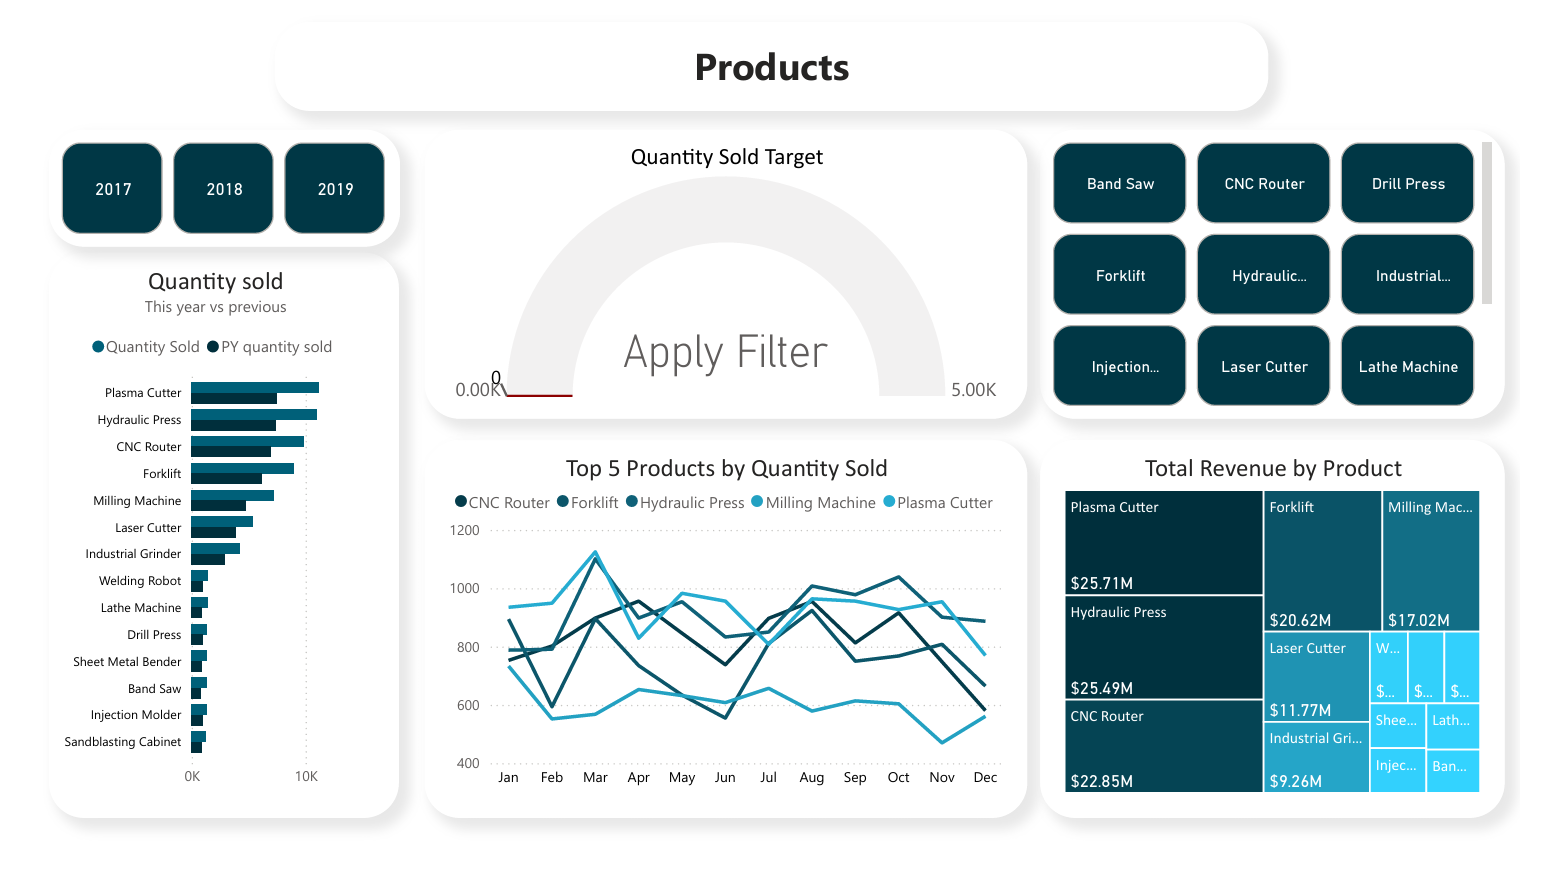

The page's visual inventory and layout, read from the dashboard file:
{"tool":"powerbi","page":{"name":"Products","canvas":[1280,720],"ordinal":1},"visuals":[{"type":"textbox","box":[216.2,11.2,848.7,76.2],"z":0},{"type":"clusteredBarChart","title":"Quantity sold","fields":{"Category":["Products_Data.Product Name"],"Y":["DAX measures.Quantity Sold","DAX measures.PY quantity sold"]},"box":[22.8,208,299.4,483.3],"z":1000},{"type":"lineChart","title":"Quantity Sold","fields":{"Category":["Date_Table.Month Short"],"Y":["DAX measures.Quantity Sold"],"Series":["Products_Data.Product Name"]},"box":[343.3,368.3,570,323.3],"z":2000},{"type":"advancedSlicerVisual","fields":{"Values":["Products_Data.Product Name"]},"box":[926,102.8,341.2,588.6],"z":3000},{"type":"advancedSlicerVisual","title":"Year","fields":{"Values":["Date_Table.Year"]},"box":[23.3,103.3,300,100],"z":4000},{"type":"gauge","title":"Target","fields":{"TargetValue":["DAX measures.Target Quantity"],"Y":["DAX measures.Gauge Value"]},"box":[343.8,102.8,569.6,247.4],"z":5000}]}

Visuals, with their boxes in screenshot pixels (x1, y1, x2, y2), scaled from the page's 1280x720 canvas onto the 1544x877 screenshot:
textbox: 261/14/1285/106
"Quantity sold" clusteredBarChart: 28/253/389/842
"Quantity Sold" lineChart: 414/449/1102/842
advancedSlicerVisual - Products_Data.Product Name: 1117/125/1529/842
"Year" advancedSlicerVisual: 28/126/390/248
"Target" gauge: 415/125/1102/427
